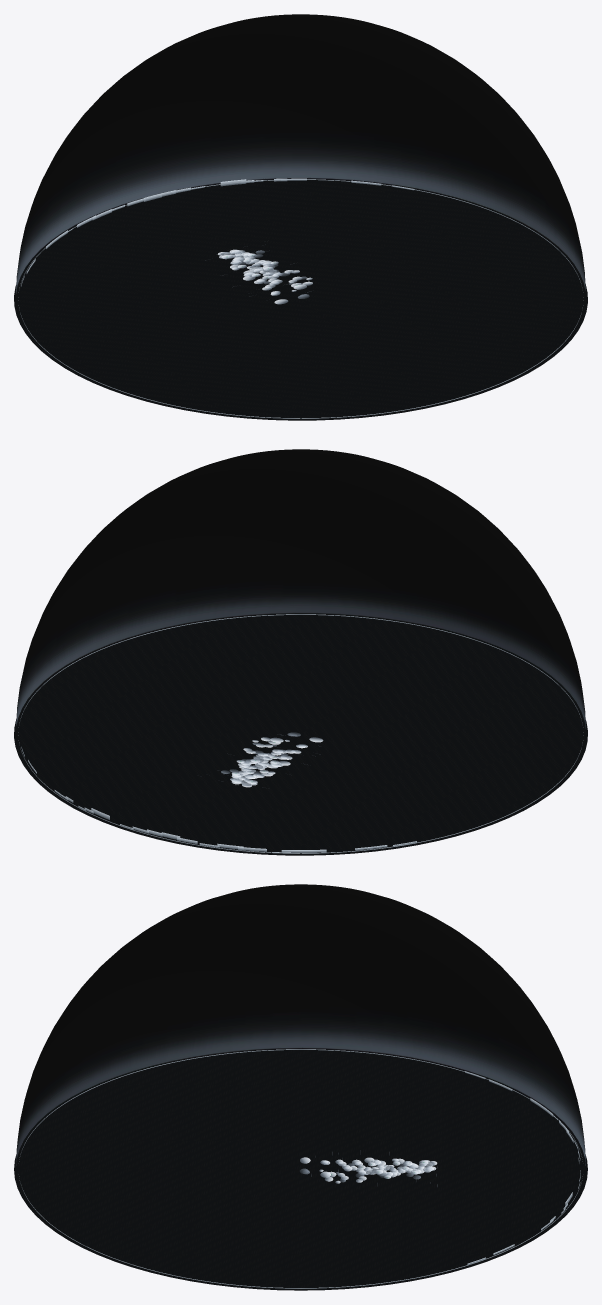
The model's file is hielo.glb.
3 views of the same model, one above another, from view 1: azimuth 30°, elevation 25°; view 2: azimuth 150°, elevation 25°; view 3: azimuth 270°, elevation 25° (orthographic).
Parts seen in each view (by area): view 1: Mar_Oscuro, Atmosfera_Fondo, Horizonte_Glaciar; view 2: Mar_Oscuro, Atmosfera_Fondo, Horizonte_Glaciar; view 3: Mar_Oscuro, Atmosfera_Fondo, Horizonte_Glaciar.
Boxes of the visible parts, x1,y1,x2,y2 form: Mar_Oscuro: [14, 179, 587, 420]; Atmosfera_Fondo: [16, 14, 585, 293]; Horizonte_Glaciar: [18, 178, 583, 418]; Mar_Oscuro: [14, 614, 587, 855]; Atmosfera_Fondo: [16, 449, 585, 728]; Horizonte_Glaciar: [18, 614, 583, 853]; Mar_Oscuro: [14, 1049, 587, 1290]; Atmosfera_Fondo: [16, 884, 585, 1165]; Horizonte_Glaciar: [19, 1049, 582, 1288].
Size of the model in its own units: 121 by 60.02 by 121.
6 materials, 6 textured.
